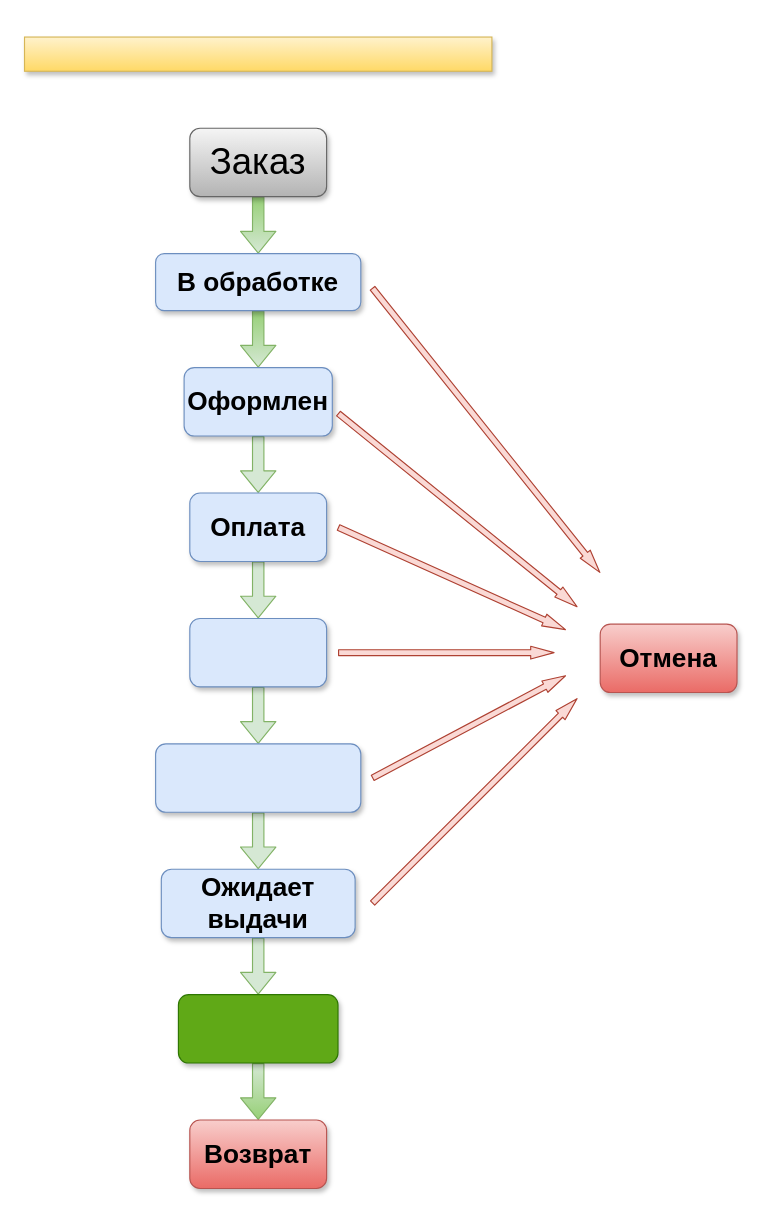
Some shapes in this 764 by 1216 pixel diagram are drawn without their labels. The centre of each missing label's shape, as x and y in pixels:
"В сборке" goes at (x=258, y=654).
"Доставлен" goes at (x=259, y=1030).
"Передан в доставку" goes at (x=259, y=779).
"СТАТУСНАЯ МОДЕЛЬ ЗАКАЗА" goes at (x=259, y=55).
